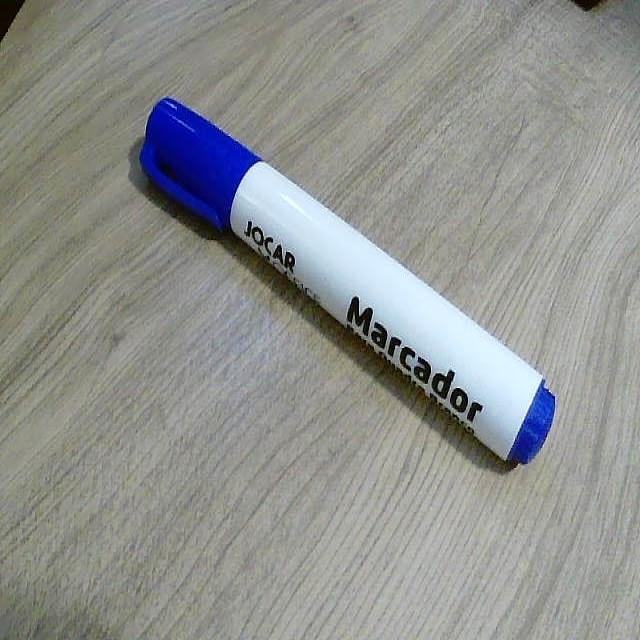caneta: (113, 61, 564, 473)
